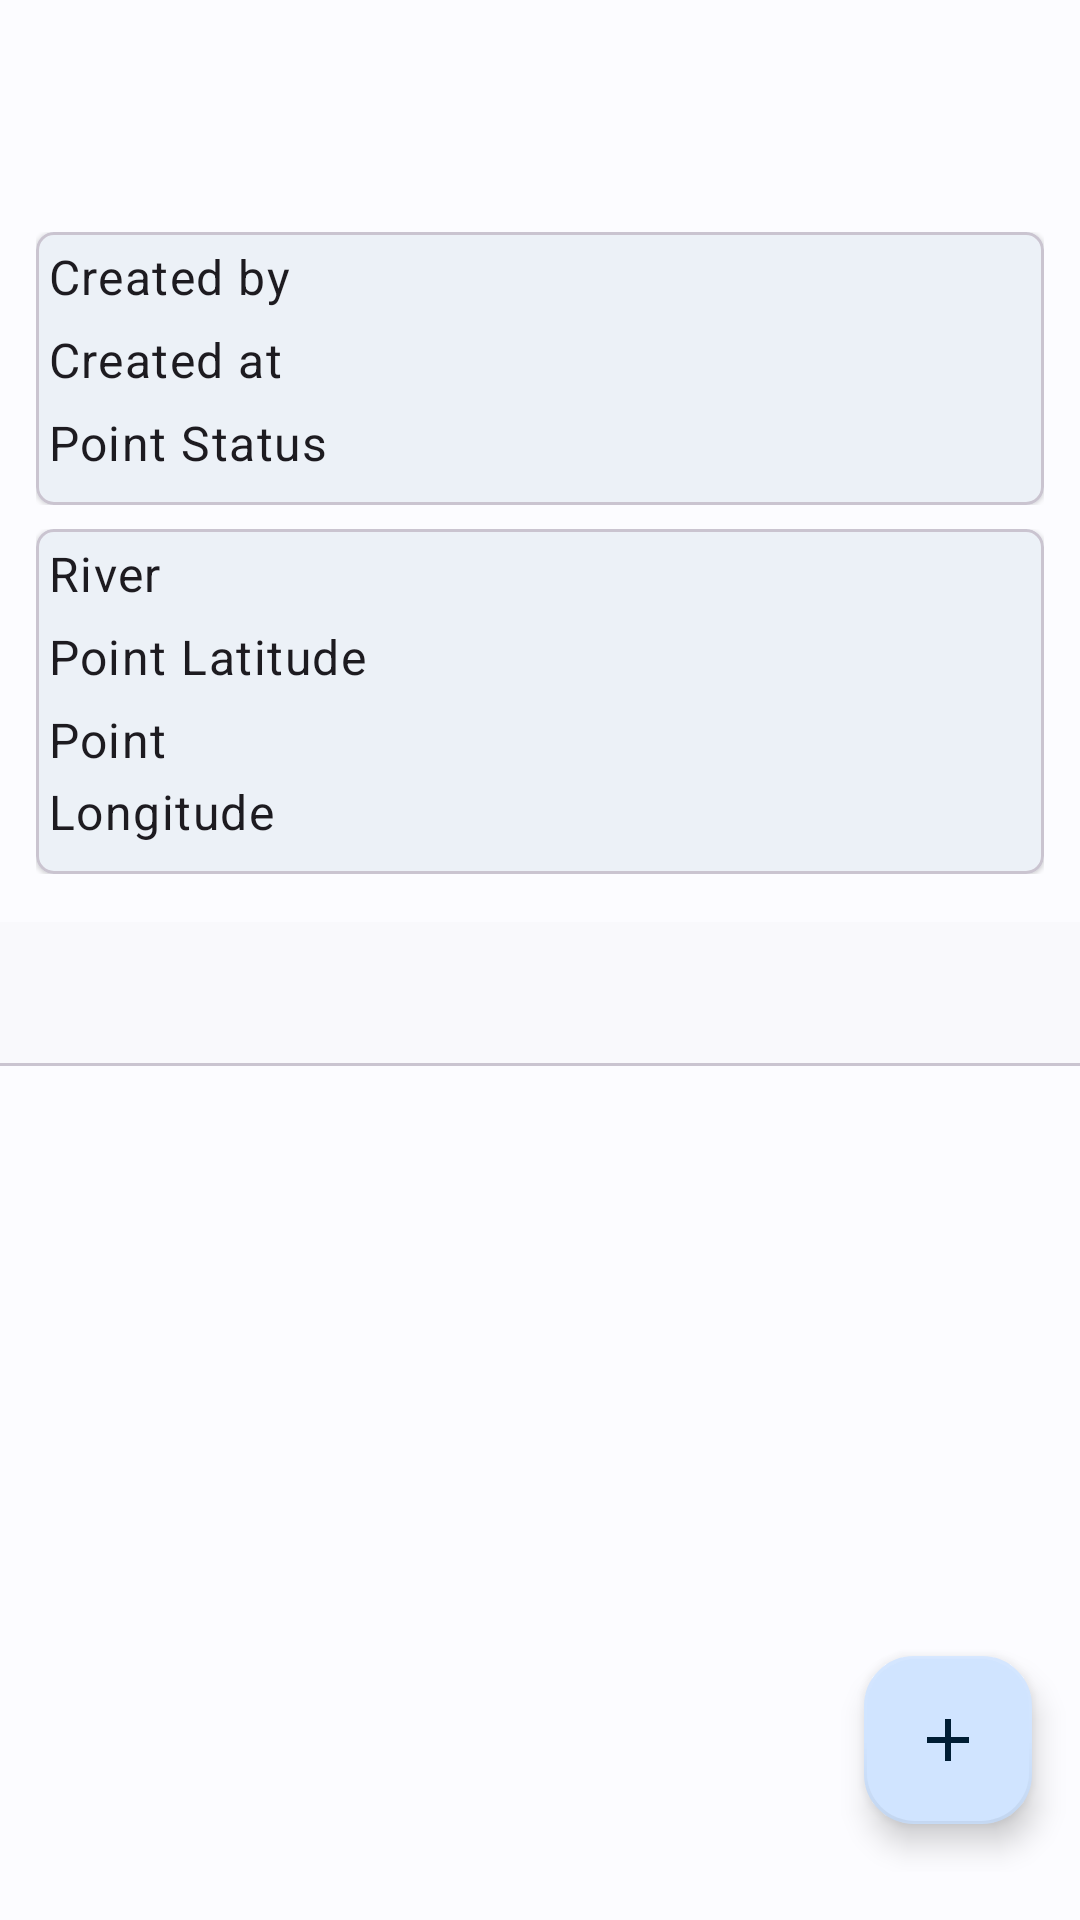

Point at icon controls on the screen. Image size 1080w x 1920h, points as point (x, y).
Add Biotilik: point (948, 1740)
